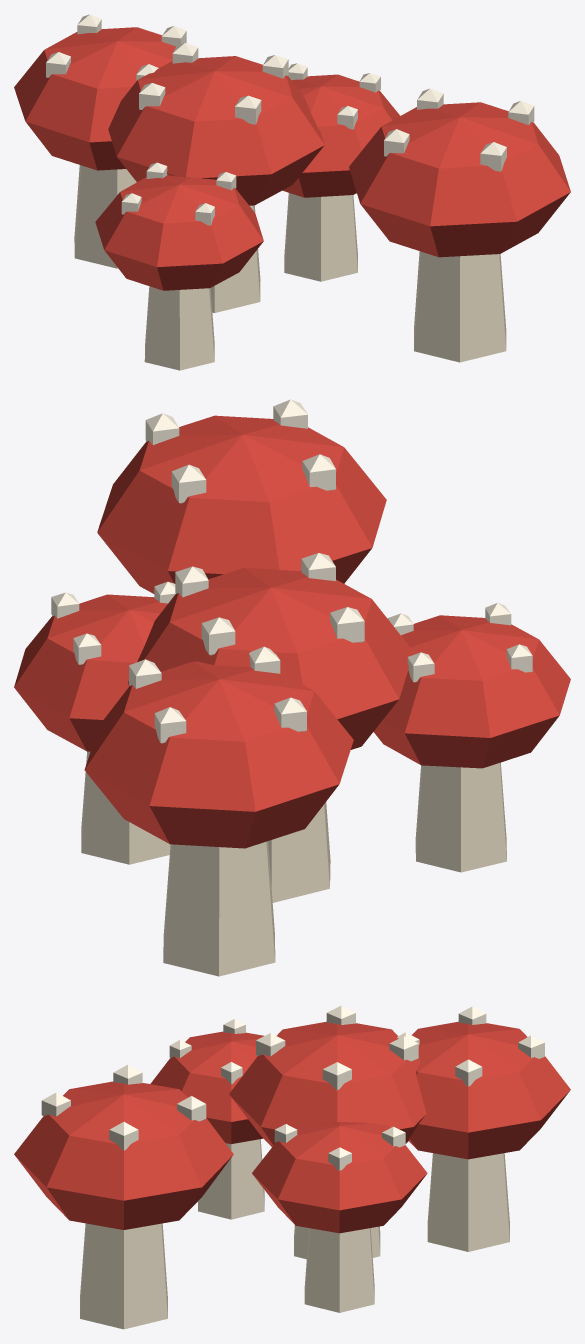
Rendered from mushroom-red.glb.
3 renders of one model, top to bottom at view 1: azimuth 30°, elevation 25°; view 2: azimuth 150°, elevation 25°; view 3: azimuth 270°, elevation 25°, orthographic. The views are drawn at different scales.
Parts seen in each view (by area): view 1: mushrooms; view 2: mushrooms; view 3: mushrooms.
Part boxes in pixels (bbox=[...]): mushrooms: bbox=[14, 14, 570, 370]; mushrooms: bbox=[14, 399, 570, 976]; mushrooms: bbox=[14, 1005, 570, 1329].
Size of the model in its own units: 0.5283 by 0.2842 by 0.668.
